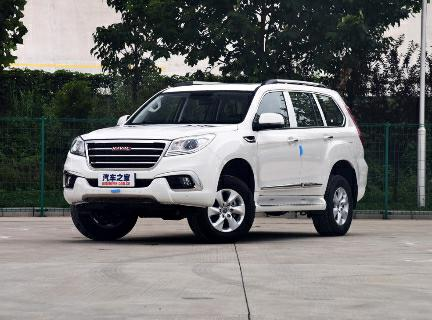哈弗-H3: (54, 71, 375, 243)
